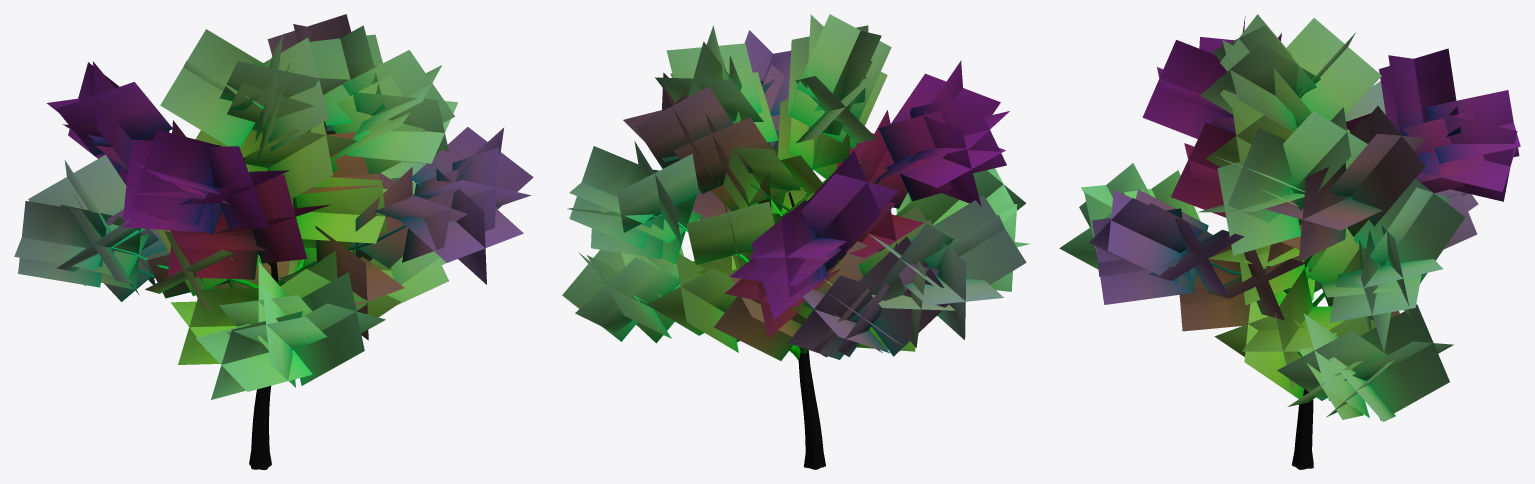
The model's file is URP_P3_Tree_1_LOD_1.fbx.
The picture shows the model from 3 angles, left to right: view 1: azimuth 30°, elevation 25°; view 2: azimuth 150°, elevation 25°; view 3: azimuth 270°, elevation 25°; orthographic projection. The views are drawn at different scales.
Parts seen in each view (by area): view 1: Tree_1_LOD_1; view 2: Tree_1_LOD_1; view 3: Tree_1_LOD_1.
Part boxes in pixels (bbox=[...]): Tree_1_LOD_1: bbox=[14, 14, 533, 469]; Tree_1_LOD_1: bbox=[562, 14, 1030, 469]; Tree_1_LOD_1: bbox=[1059, 14, 1520, 469].
Bounding box in the file's own units: 628 × 610 × 578.
